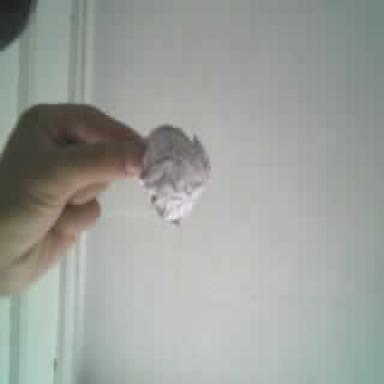paper: (142, 125, 210, 222)
